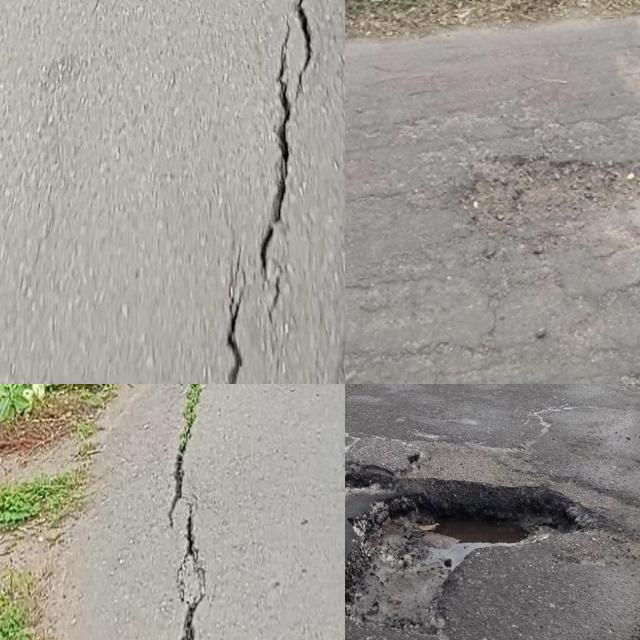Lubang: (345, 470, 580, 631), (463, 148, 636, 227)
Memanjang: (208, 0, 322, 384), (154, 384, 218, 640)
